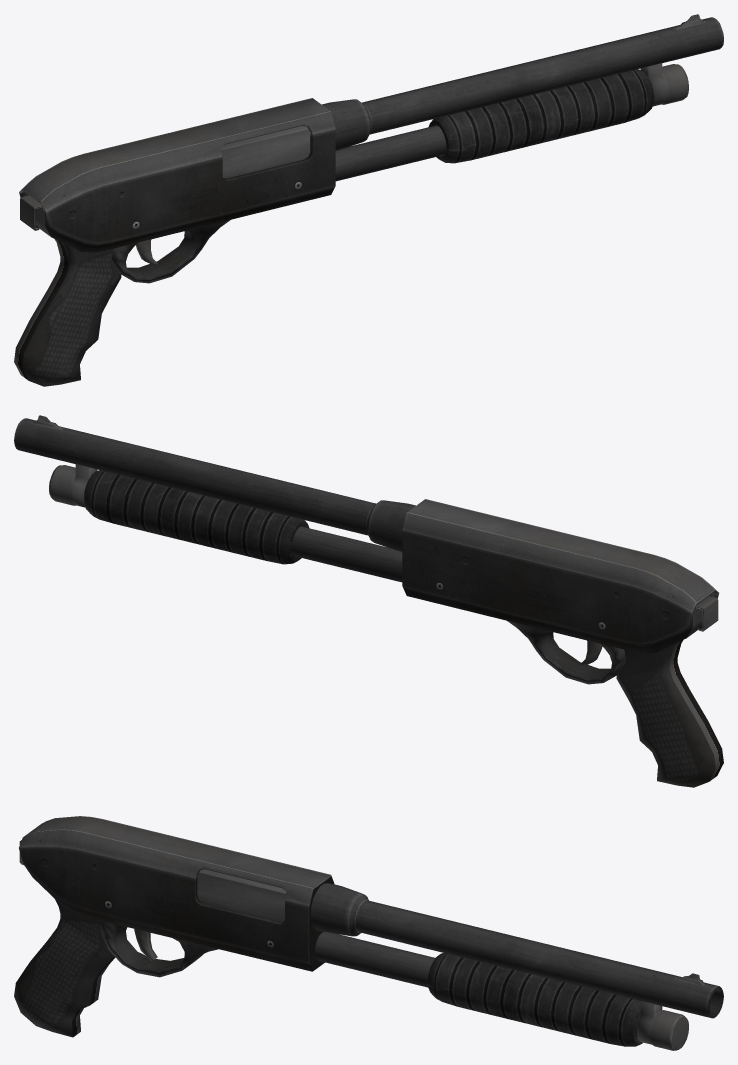
The model's file is Mesh_Shotgun.fbx.
The picture shows the model from 3 angles, top to bottom: view 1: azimuth 30°, elevation 25°; view 2: azimuth 150°, elevation 25°; view 3: azimuth 330°, elevation 25°; orthographic projection.
Parts seen in each view (by area): view 1: w_shotgun_Mesh; view 2: w_shotgun_Mesh; view 3: w_shotgun_Mesh.
Boxes of the visible parts, box(x1,y1,x2,y2) form: w_shotgun_Mesh: box(14, 14, 723, 386); w_shotgun_Mesh: box(14, 415, 723, 787); w_shotgun_Mesh: box(14, 816, 723, 1050).
Bounding box in the file's own units: 42.37 × 12.34 × 2.88.
Materials: 1 (1 with a texture image).
